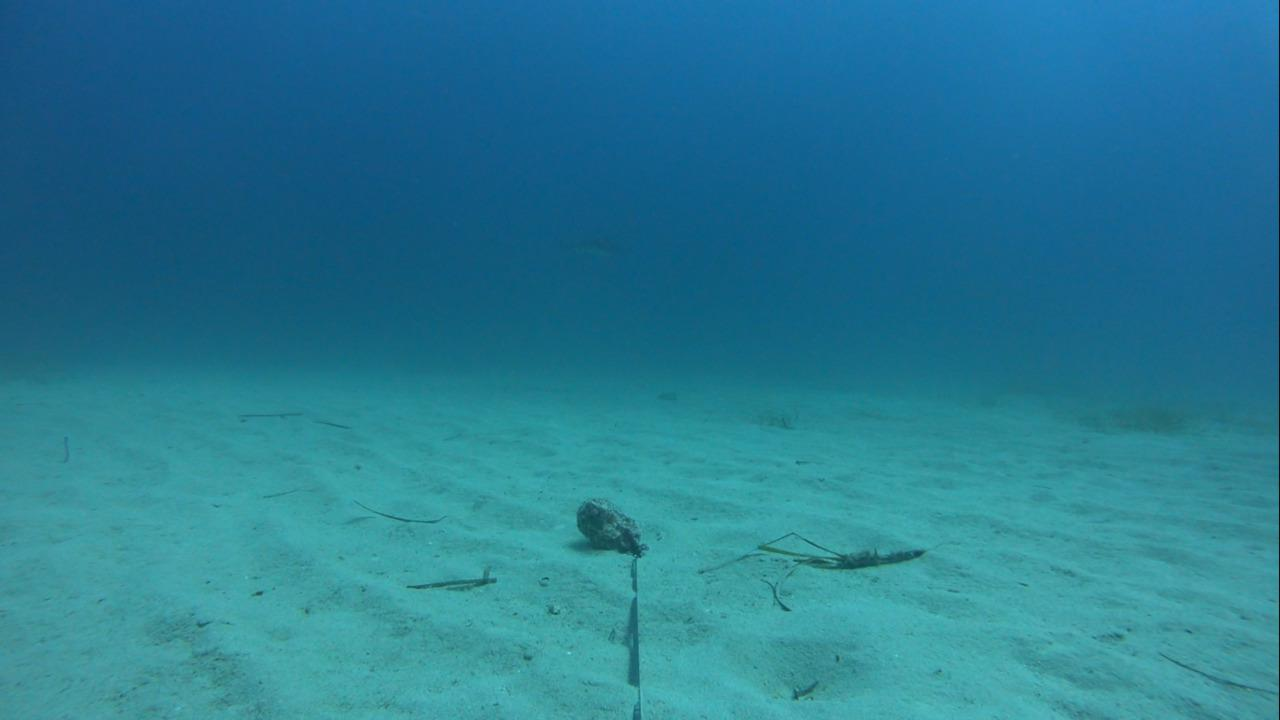myliobatis: (550, 224, 648, 277)
